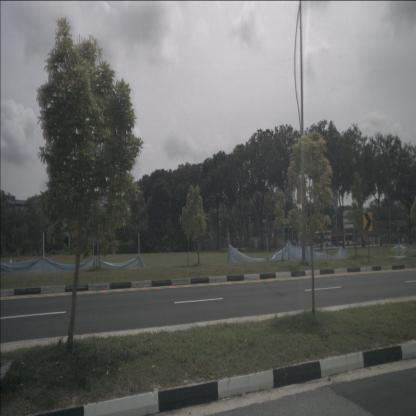vehicle-bus-rigid: (331, 233, 354, 246), (312, 231, 332, 242)
vehicle-car: (380, 234, 389, 244), (391, 234, 399, 244)
